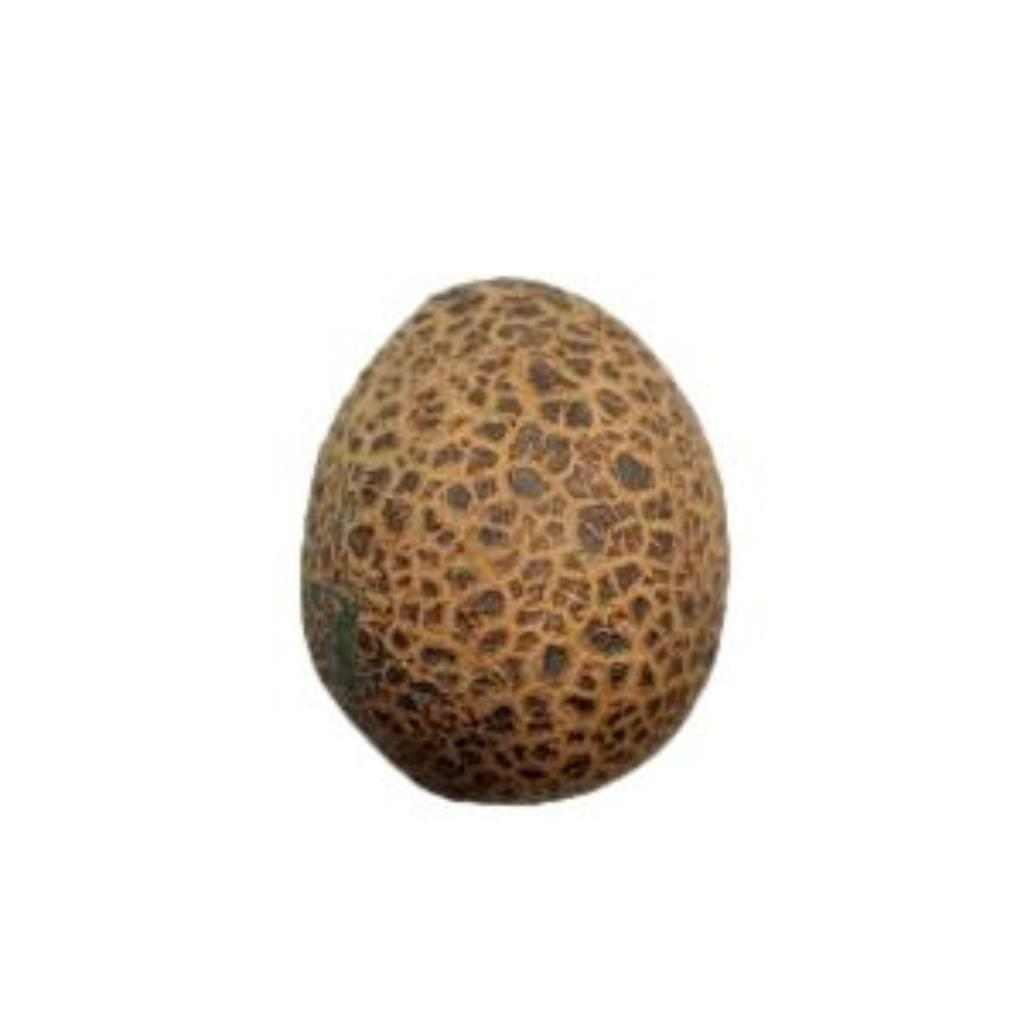cercospora: (276, 245, 748, 818)
